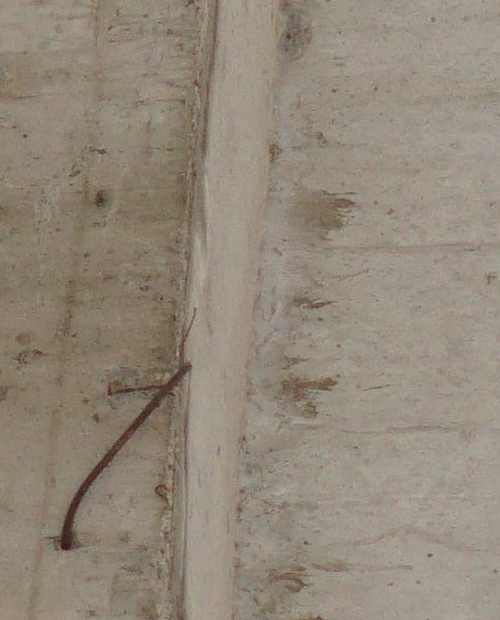Exposed reinforcement: (60, 359, 193, 551)
